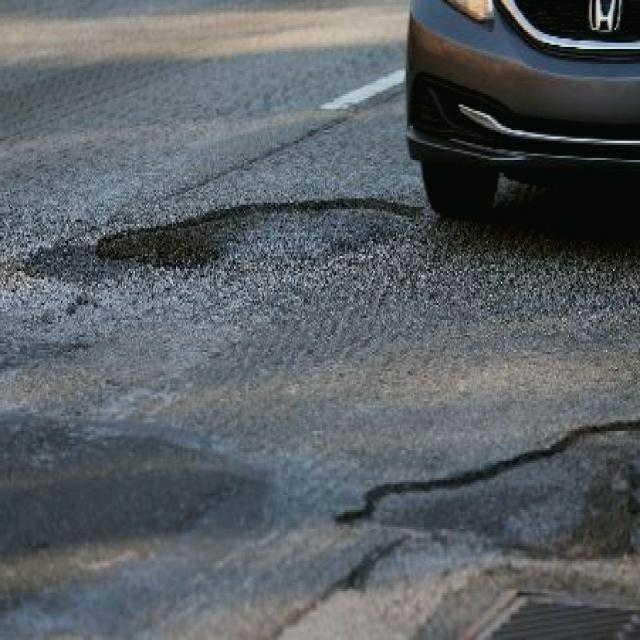Pothole: (335, 412, 640, 561), (95, 190, 423, 275)
